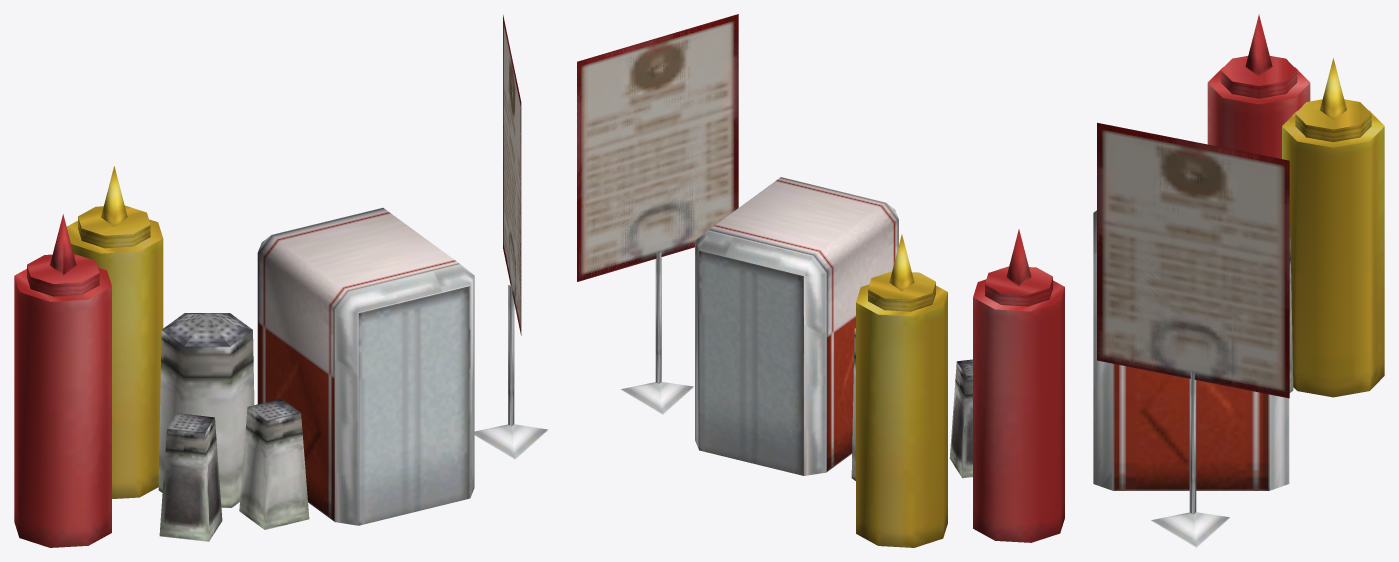
Rendered from napkin_salt_ketchup.fbx.
3 views of the same model, side by side, from view 1: azimuth 30°, elevation 25°; view 2: azimuth 150°, elevation 25°; view 3: azimuth 270°, elevation 25° (orthographic). The views are drawn at different scales.
Parts seen in each view (by area): view 1: mesh_0; view 2: mesh_0; view 3: mesh_0.
Boxes of the visible parts, bbox=[...] form: mesh_0: bbox=[14, 15, 547, 547]; mesh_0: bbox=[577, 14, 1064, 547]; mesh_0: bbox=[1093, 14, 1384, 547].
Bounding box in the file's own units: 45.5 × 34.09 × 22.71.
1 material, 1 textured.
